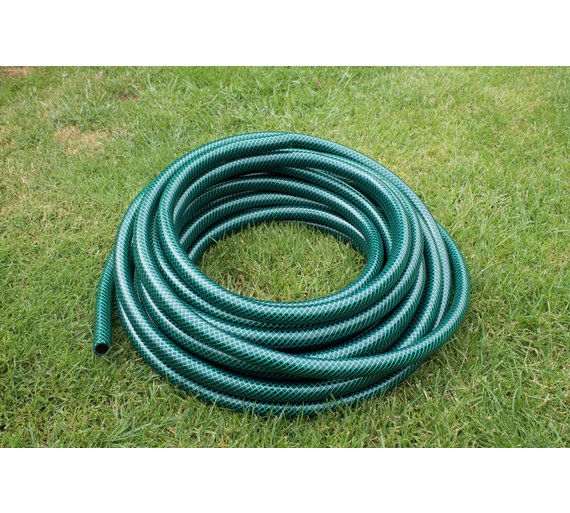Nonrec_Tangler: (43, 110, 497, 415)
